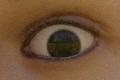eye: (46, 29, 81, 58)
